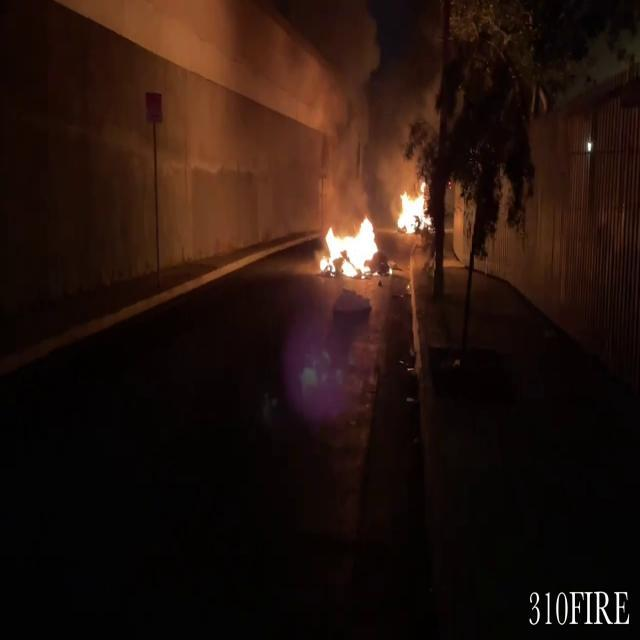Fire: (316, 206, 382, 280), (395, 173, 431, 240)
Smoke: (288, 11, 447, 169)
